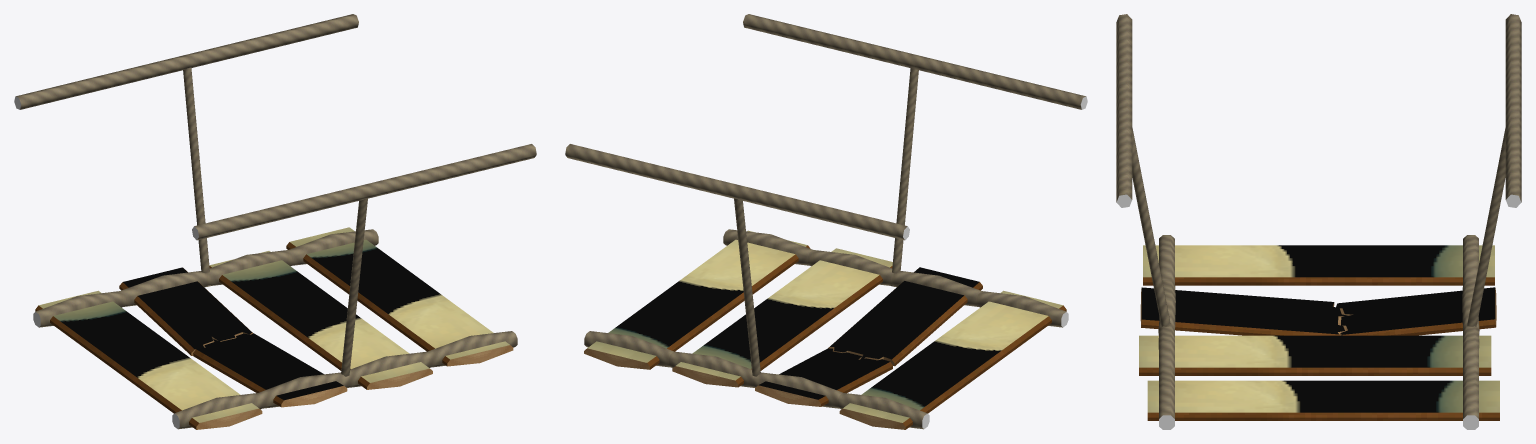
The model's file is Prop_Bridge_Rope_Middle_Cracked_1_1x1.fbx.
3 views of the same model, side by side, from view 1: azimuth 30°, elevation 25°; view 2: azimuth 150°, elevation 25°; view 3: azimuth 270°, elevation 25° (orthographic). The views are drawn at different scales.
Parts seen in each view (by area): view 1: Prop_Bridge_Rope_Middle_Cracked_1_1x1; view 2: Prop_Bridge_Rope_Middle_Cracked_1_1x1; view 3: Prop_Bridge_Rope_Middle_Cracked_1_1x1.
Boxes of the visible parts, x1=… form: Prop_Bridge_Rope_Middle_Cracked_1_1x1: x1=14, y1=14, x2=536, y2=429; Prop_Bridge_Rope_Middle_Cracked_1_1x1: x1=565, y1=14, x2=1087, y2=429; Prop_Bridge_Rope_Middle_Cracked_1_1x1: x1=1116, y1=14, x2=1521, y2=429.
Size of the model in its own units: 100 by 64.37 by 94.84.
